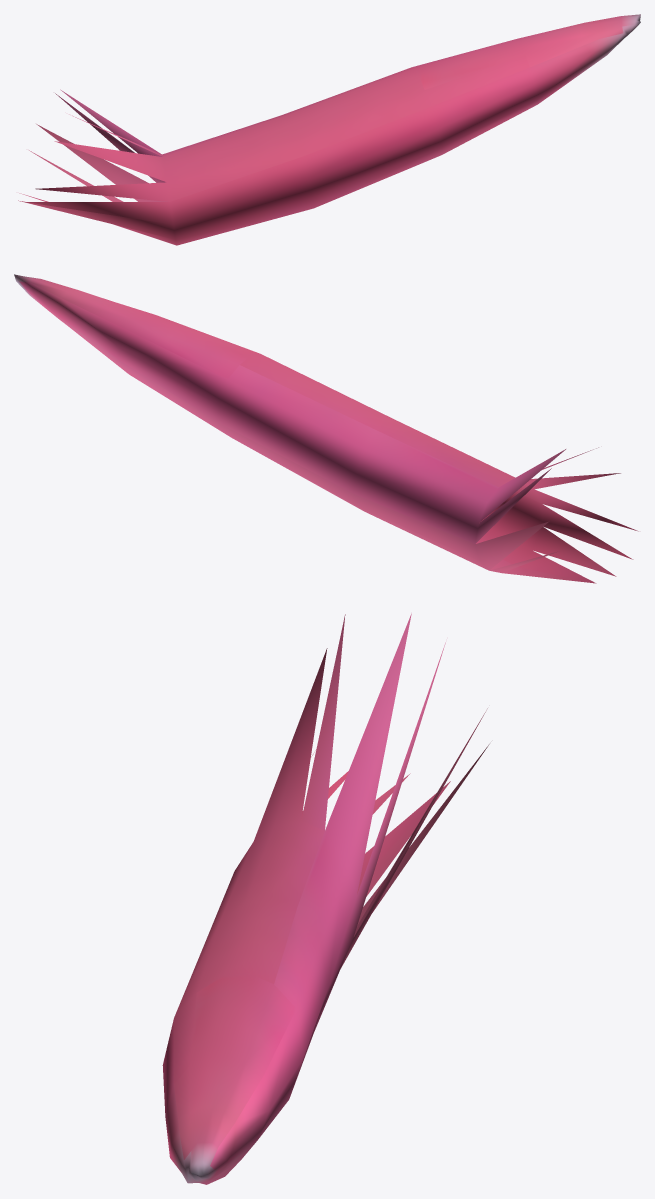
The model's file is Punta7.obj.
3 renders of one model, top to bottom at view 1: azimuth 30°, elevation 25°; view 2: azimuth 150°, elevation 25°; view 3: azimuth 270°, elevation 25°, orthographic. The views are drawn at different scales.
Parts seen in each view (by area): view 1: Punta7; view 2: Punta7; view 3: Punta7.
Boxes of the visible parts, left/top/right/bottom form: Punta7: left=18, top=14, right=640, bottom=245; Punta7: left=14, top=274, right=638, bottom=583; Punta7: left=162, top=613, right=489, bottom=1184.
Bounding box in the file's own units: 5.73 × 1.44 × 1.42.
